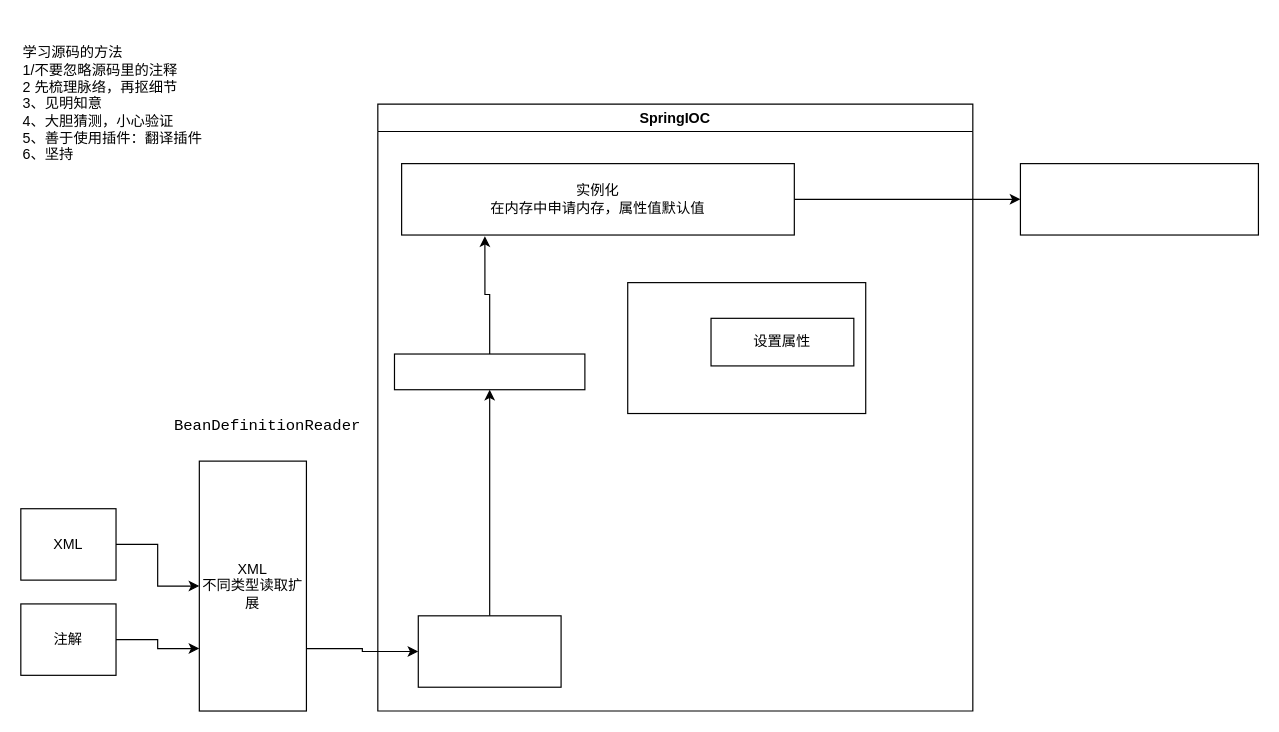
Some shapes in this 1279 by 732 pixel diagram are drawn without their labels. Each missing label, with the box of its shape:
BeanDefinition: (417, 615, 561, 687)
BeanFactoryPostProcessor: (393, 353, 585, 390)
createBeanInstance 反射: (1019, 162, 1258, 235)
